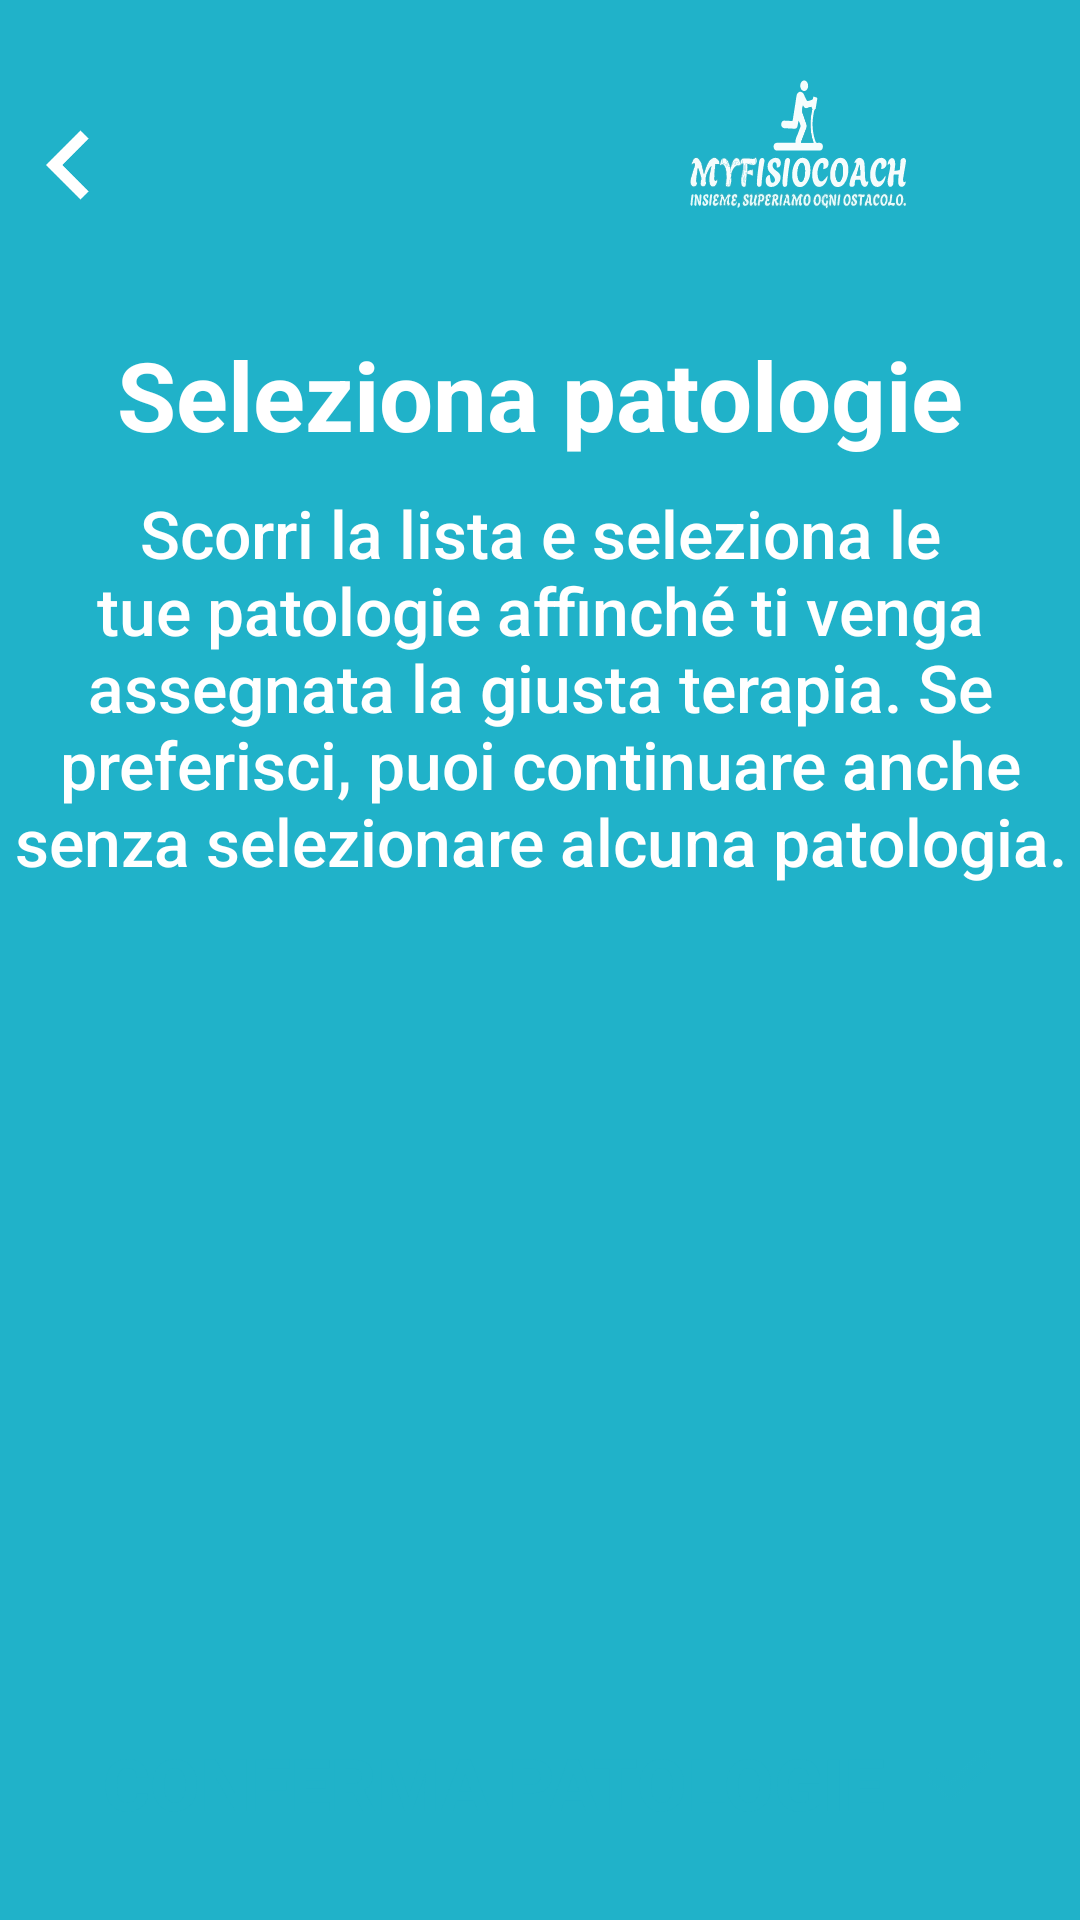

Named icons in this screenshot (1080px×1920px) and their centers, (x=x, y=y):
chevron left: (x=67, y=165)
